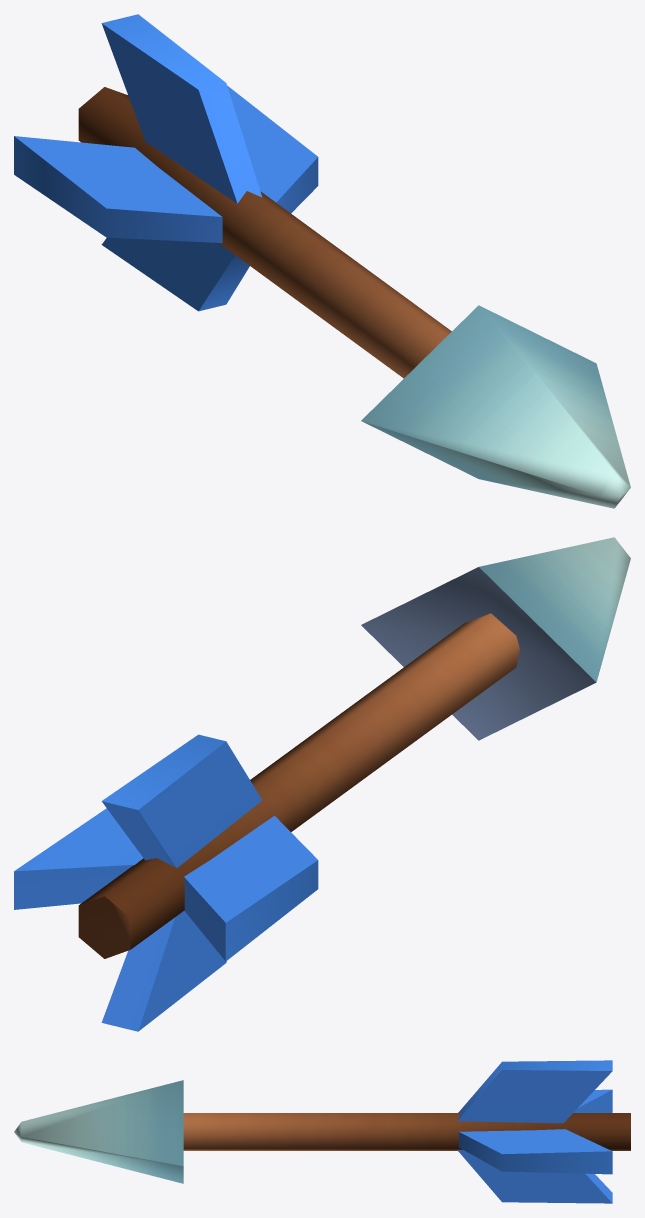
File: Skeleton_Arrow_x1_v01.fbx
The picture shows the model from 3 angles, top to bottom: view 1: azimuth 30°, elevation 25°; view 2: azimuth 150°, elevation 25°; view 3: azimuth 270°, elevation 25°; orthographic projection. The views are drawn at different scales.
Visible parts, largest first — view 1: Skeleton_Arrow_x1; view 2: Skeleton_Arrow_x1; view 3: Skeleton_Arrow_x1.
Part boxes in pixels (left/top/right/bottom): Skeleton_Arrow_x1: left=14, top=14, right=630, bottom=508; Skeleton_Arrow_x1: left=14, top=537, right=630, bottom=1031; Skeleton_Arrow_x1: left=14, top=1060, right=630, bottom=1203.
Bounding box in the file's own units: 29.12 × 26.16 × 110.
